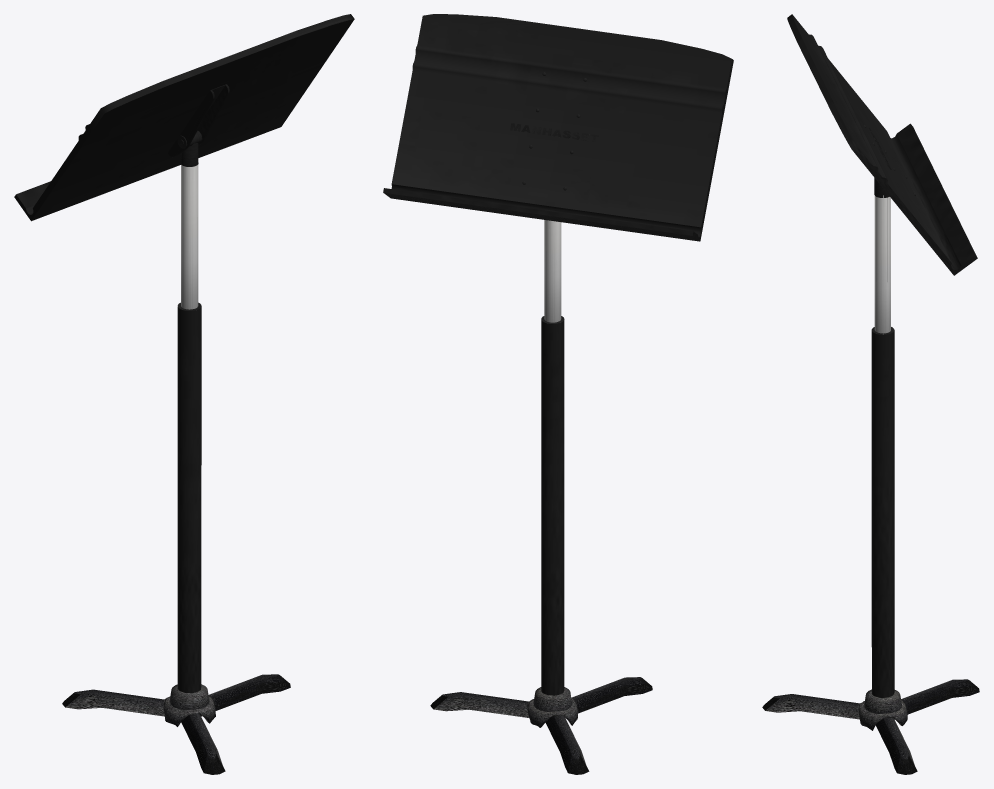
Rendered from prop_music_stand.glb.
The picture shows the model from 3 angles, left to right: view 1: azimuth 30°, elevation 25°; view 2: azimuth 150°, elevation 25°; view 3: azimuth 270°, elevation 25°; orthographic projection. The views are drawn at different scales.
Visible parts, largest first — view 1: Music_Stand_full_lambert10_0; view 2: Music_Stand_full_lambert10_0; view 3: Music_Stand_full_lambert10_0.
Boxes of the visible parts, left/top/right/bottom form: Music_Stand_full_lambert10_0: left=14, top=14, right=354, bottom=774; Music_Stand_full_lambert10_0: left=383, top=14, right=733, bottom=774; Music_Stand_full_lambert10_0: left=762, top=14, right=979, bottom=774.
Bounding box in the file's own units: 15.06 × 32.06 × 9.69.
3 materials, 3 textured.
